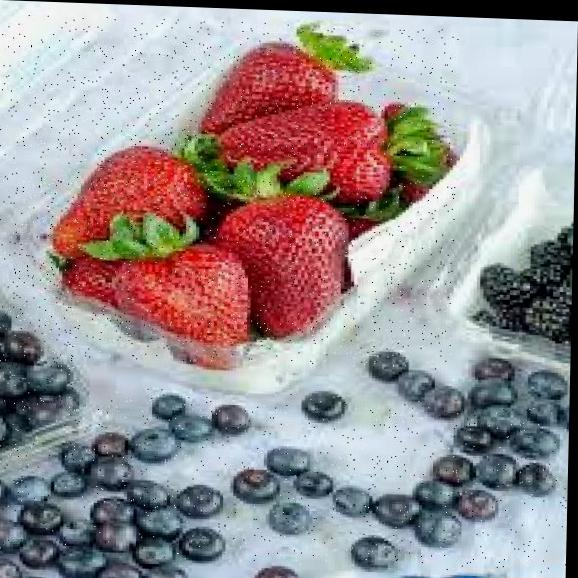blueberries: (0, 382, 570, 574), (0, 270, 81, 479)
strawberries: (0, 13, 459, 371)
